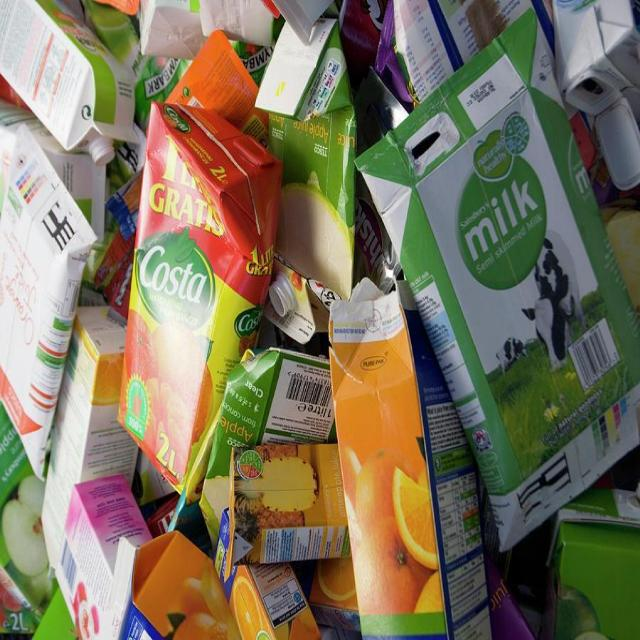drink carton: (355, 11, 640, 552), (115, 100, 283, 508), (327, 276, 491, 640), (0, 124, 101, 484), (0, 0, 141, 168), (101, 530, 245, 640), (551, 486, 640, 640)
